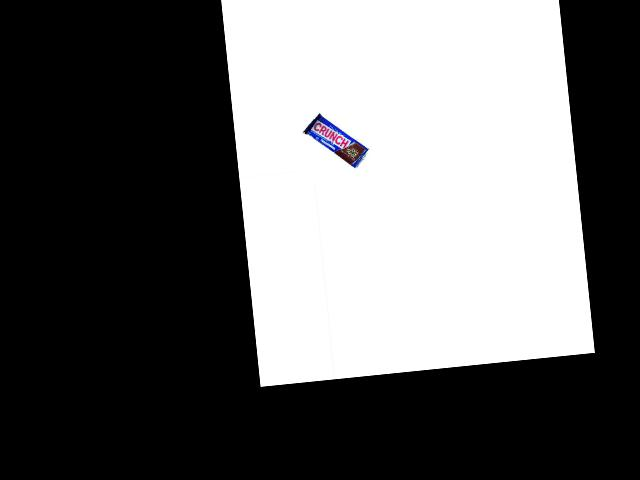chocolate: (300, 108, 372, 174)
